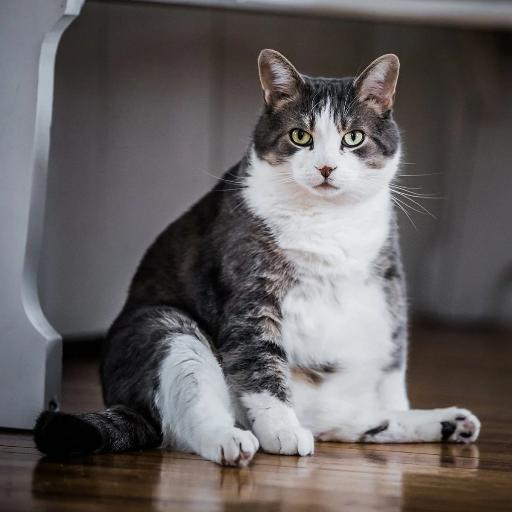cat_sitting: (35, 49, 480, 466)
